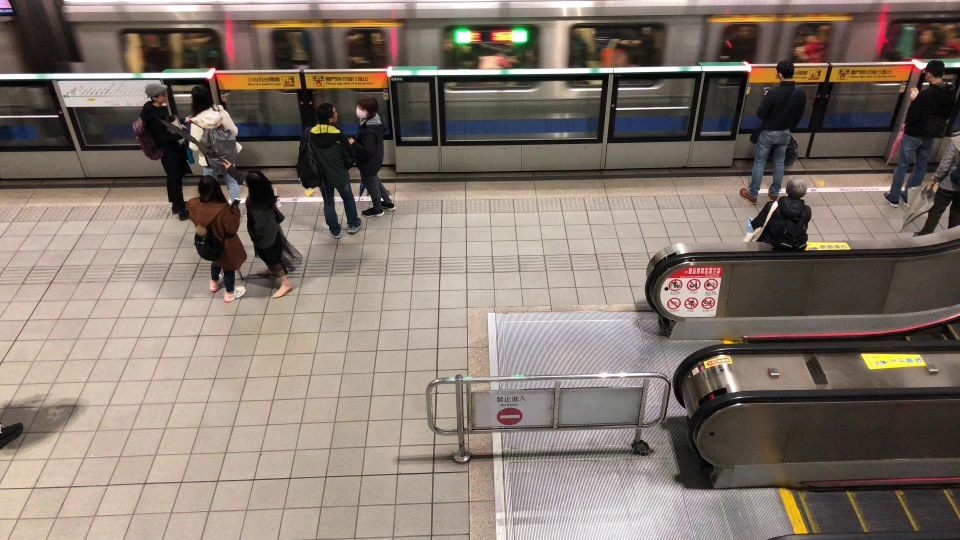person_head: (190, 174, 229, 209), (241, 168, 275, 207), (191, 86, 215, 114), (143, 82, 170, 106), (922, 60, 946, 84), (313, 102, 338, 124), (774, 60, 797, 83), (356, 97, 378, 120), (785, 177, 808, 199)
person_vbox: (881, 60, 959, 208), (169, 174, 249, 307), (737, 59, 809, 205), (232, 168, 304, 303), (129, 82, 197, 221), (295, 103, 364, 239), (181, 86, 242, 210), (897, 118, 960, 238), (348, 97, 398, 219), (742, 176, 812, 254)
